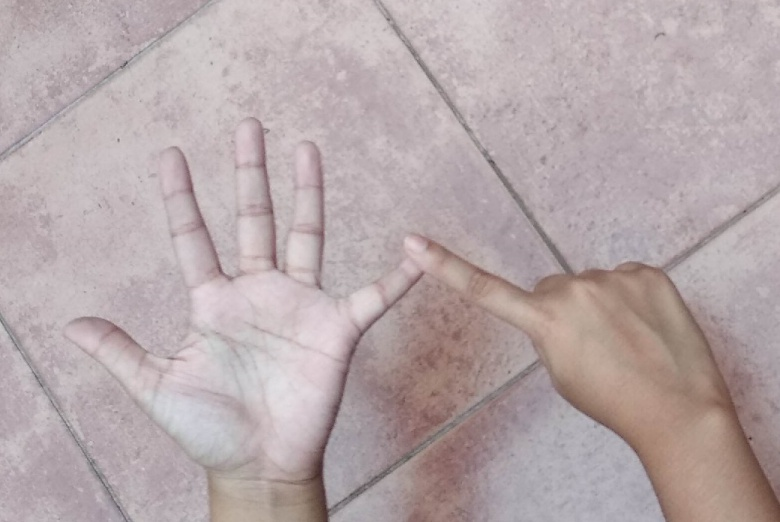i: (72, 108, 561, 448)
